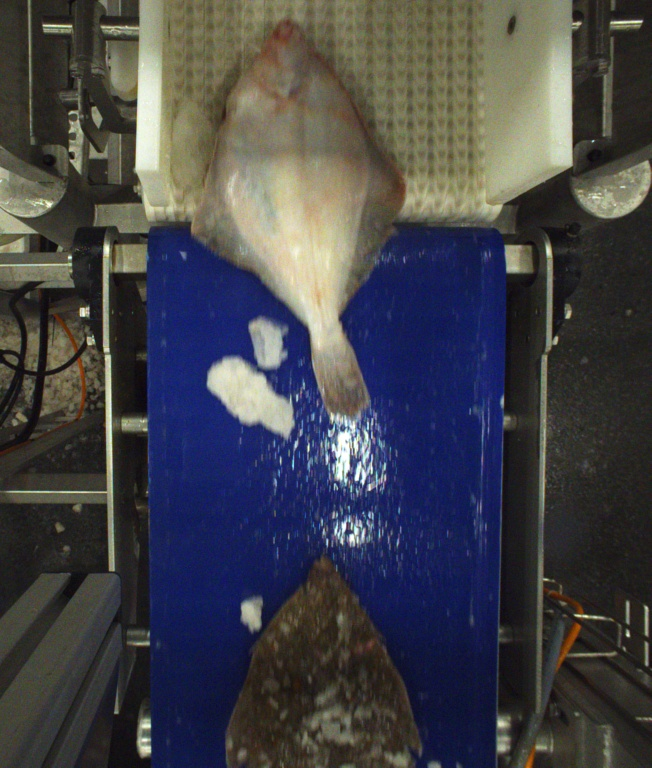PLE: (224, 555, 423, 768)
